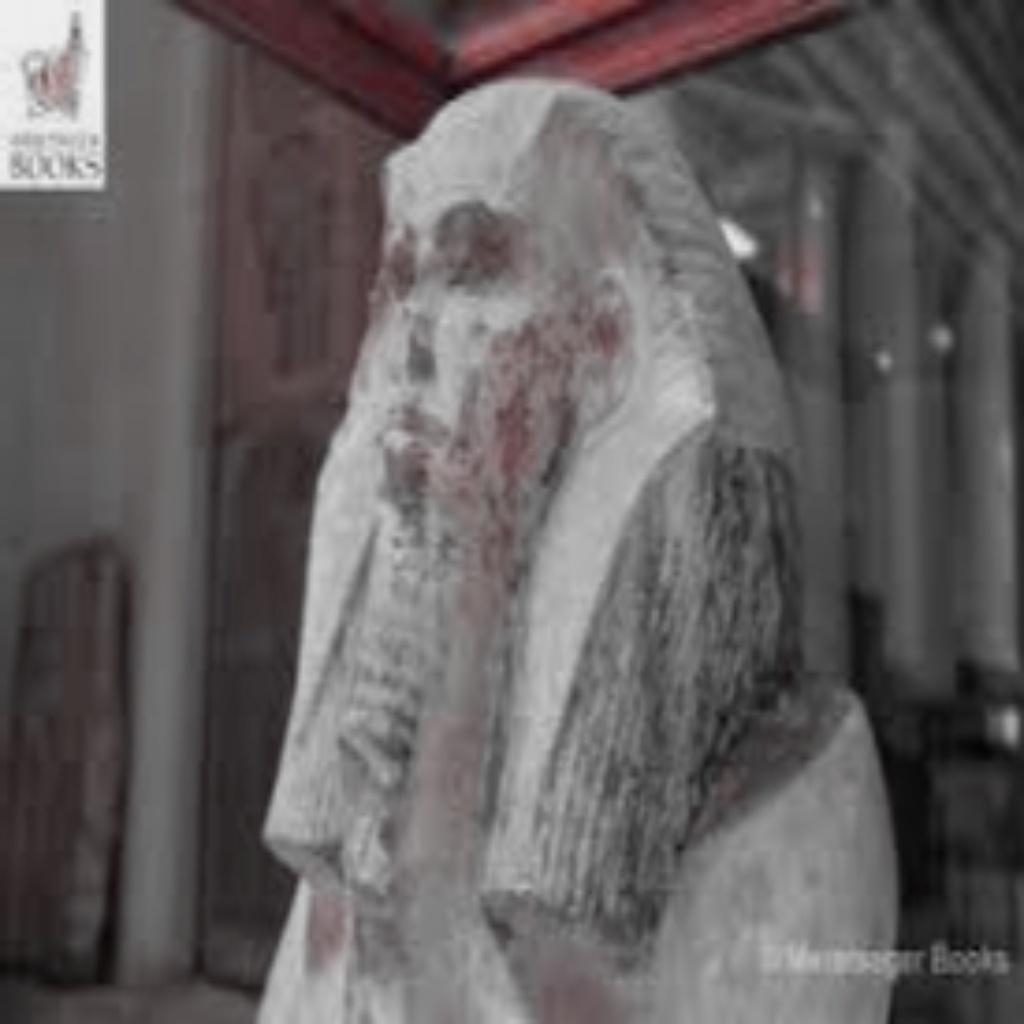Statue of King Zoser: (250, 68, 902, 1018)
